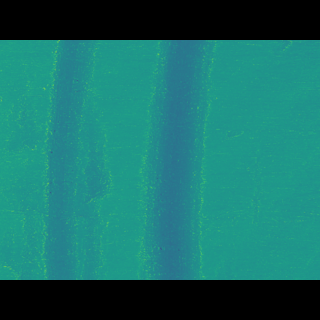Loch: (140, 68, 216, 251), (41, 68, 105, 250)
